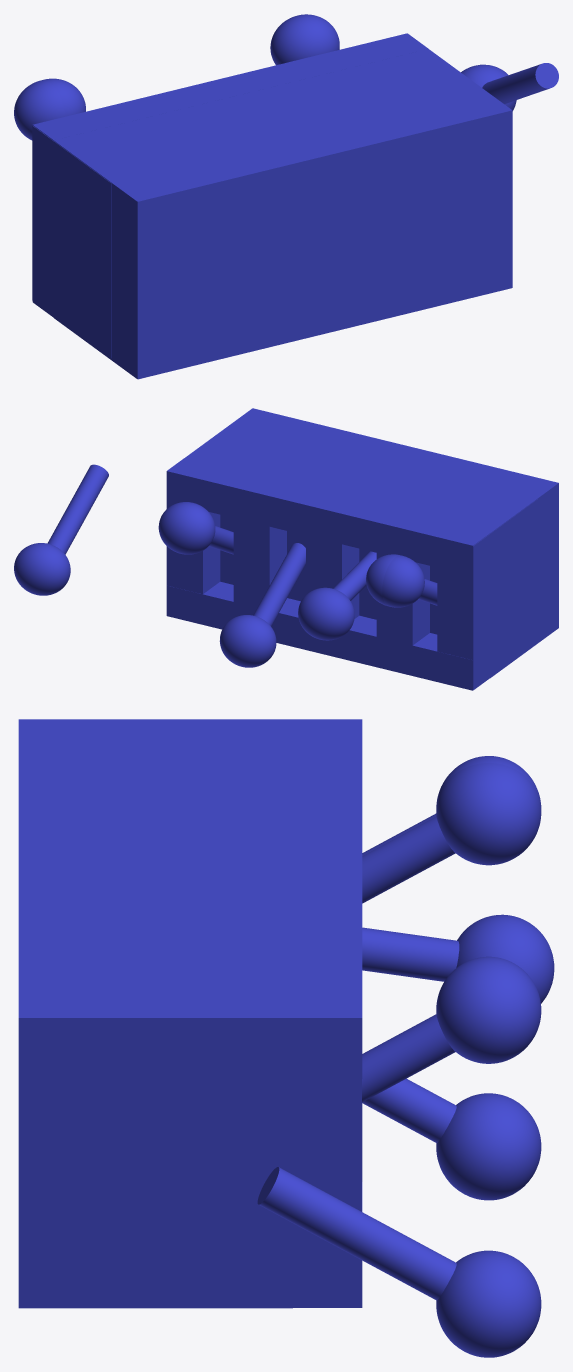
Rendered from LeversUntextured.fbx.
3 renders of one model, top to bottom at view 1: azimuth 30°, elevation 25°; view 2: azimuth 150°, elevation 25°; view 3: azimuth 270°, elevation 25°, orthographic. The views are drawn at different scales.
Visible parts, largest first — view 1: root (×3), node_id118, node_id175 (×2), node_id98, node_id90; view 2: root (×8), node_id175 (×2), node_id108 (×2), node_id141 (×2), node_id118 (×2), node_id98 (×2), node_id90; view 3: root (×4), node_id175 (×2), node_id118 (×2), node_id90 (×2), node_id108 (×2), node_id141 (×2).
Part boxes in pixels (bbox=[...]): root (×3): bbox=[32, 33, 512, 379]; node_id118: bbox=[270, 14, 339, 65]; node_id175 (×2): bbox=[461, 63, 558, 110]; node_id98: bbox=[14, 80, 65, 140]; node_id90: bbox=[43, 78, 85, 116]; root (×8): bbox=[166, 408, 558, 690]; node_id175 (×2): bbox=[14, 464, 108, 595]; node_id108 (×2): bbox=[219, 543, 305, 667]; node_id141 (×2): bbox=[298, 551, 376, 640]; node_id118 (×2): bbox=[158, 502, 233, 554]; node_id98 (×2): bbox=[382, 555, 437, 607]; node_id90: bbox=[366, 554, 401, 605]; root (×4): bbox=[18, 719, 362, 1308]; node_id175 (×2): bbox=[257, 1167, 541, 1357]; node_id118 (×2): bbox=[362, 956, 541, 1102]; node_id90 (×2): bbox=[362, 763, 541, 903]; node_id108 (×2): bbox=[362, 1078, 541, 1200]; node_id141 (×2): bbox=[362, 914, 554, 1003].
Bounding box in the file's own units: 1.1 × 0.3644 × 0.5997.
Materials: 4 (2 with a texture image).
